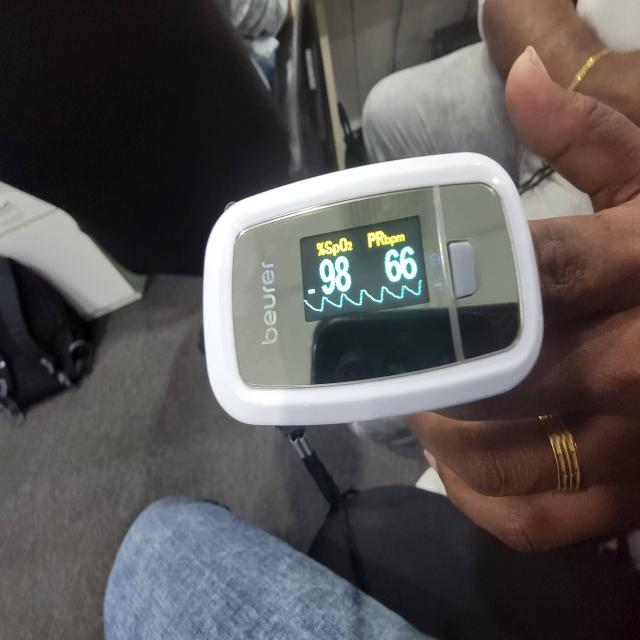spo2: (201, 153, 545, 429)
